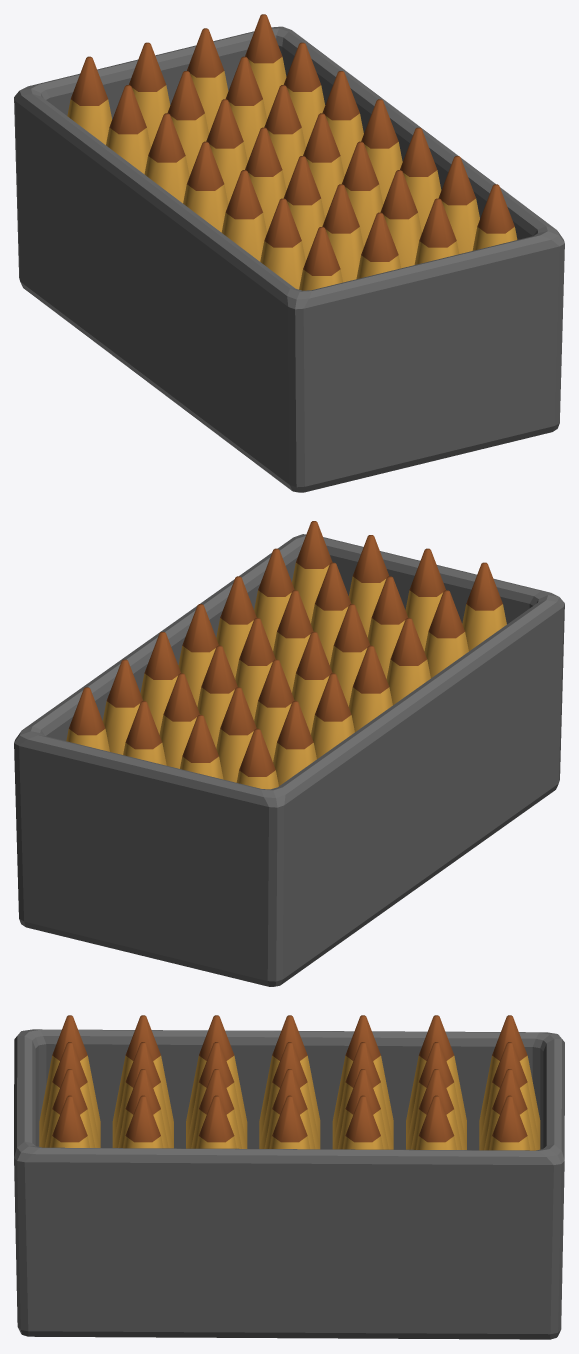
The model's file is Bullet.fbx.
3 views of the same model, one above another, from view 1: azimuth 30°, elevation 25°; view 2: azimuth 150°, elevation 25°; view 3: azimuth 270°, elevation 25° (orthographic). The views are drawn at different scales.
Visible parts, largest first — view 1: Cube, Cylinder; view 2: Cube, Cylinder; view 3: Cube, Cylinder.
Boxes of the visible parts, <box> form: Cube: <box>14,26,564,492</box>; Cylinder: <box>67,14,517,290</box>; Cube: <box>14,534,564,986</box>; Cylinder: <box>66,521,506,789</box>; Cube: <box>14,1029,564,1339</box>; Cylinder: <box>39,1015,540,1150</box>.
Bounding box in the file's own units: 30.25 × 24.42 × 54.12.
